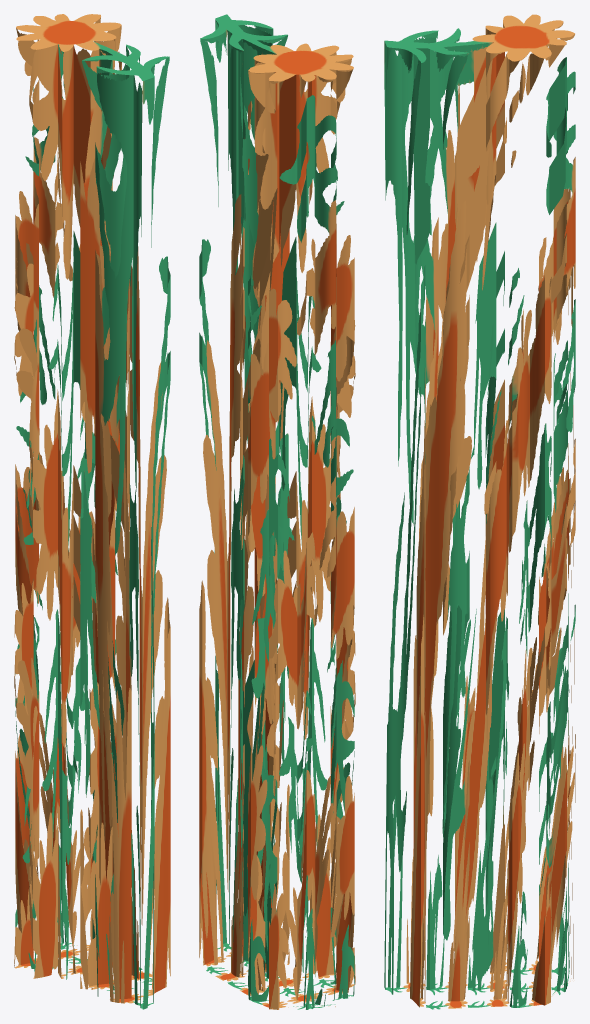
The model's file is flower.FBX.
3 views of the same model, side by side, from view 1: azimuth 30°, elevation 25°; view 2: azimuth 210°, elevation 25°; view 3: azimuth 270°, elevation 25° (orthographic).
Parts seen in each view (by area): view 1: Shape1; view 2: Shape1; view 3: Shape1.
Part boxes in pixels (x1=…): Shape1: x1=14, y1=14, x2=170, y2=1009; Shape1: x1=199, y1=14, x2=355, y2=1009; Shape1: x1=384, y1=14, x2=575, y2=1009.
Bounding box in the file's own units: 2.79 × 25 × 4.59.
